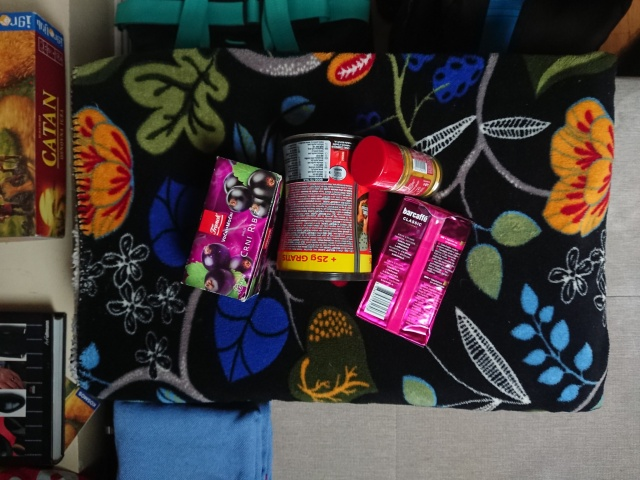Barcaffe Classic Original 225g: (353, 193, 478, 351)
Franck Black Currant Tea 60g: (177, 152, 286, 305)
Kotanyi Curry Spices Mix 70g: (347, 133, 446, 201)
Nescafe Classic 225g: (273, 130, 380, 283)
